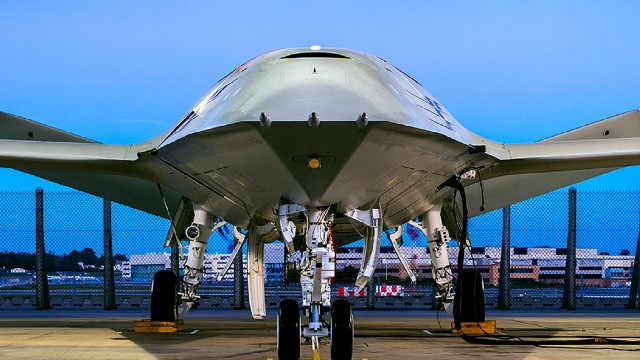maybay_khongnguoilai: (16, 42, 637, 353)
